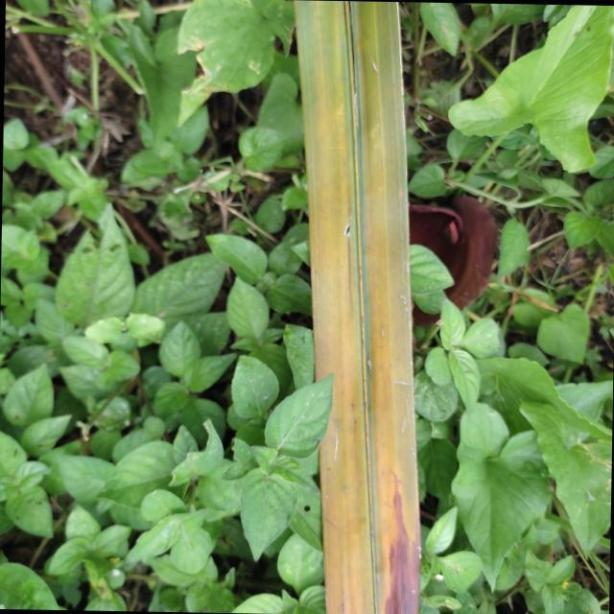Megnesium: (296, 0, 424, 614)
